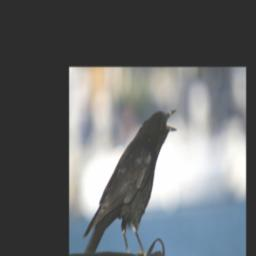Crow: (82, 106, 178, 256)
